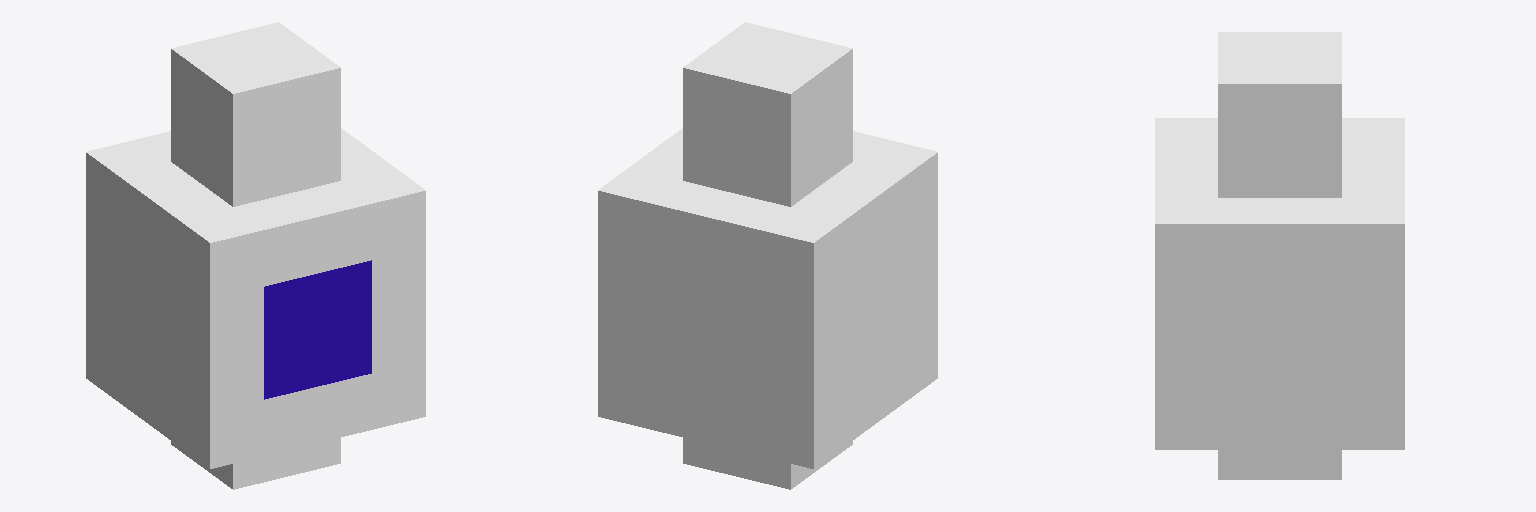
3 renders of one model, left to right at view 1: azimuth 30°, elevation 25°; view 2: azimuth 150°, elevation 25°; view 3: azimuth 270°, elevation 25°, orthographic.
Parts seen in each view (by area): view 1: object 1; view 2: object 1; view 3: object 1.
Part boxes in pixels (left/top/right/bottom): object 1: left=86, top=22, right=425, bottom=489; object 1: left=598, top=22, right=937, bottom=489; object 1: left=1155, top=32, right=1404, bottom=479.
Bounding box in the file's own units: 0.4 × 0.7 × 0.4.
Materials: 1 (1 with a texture image).